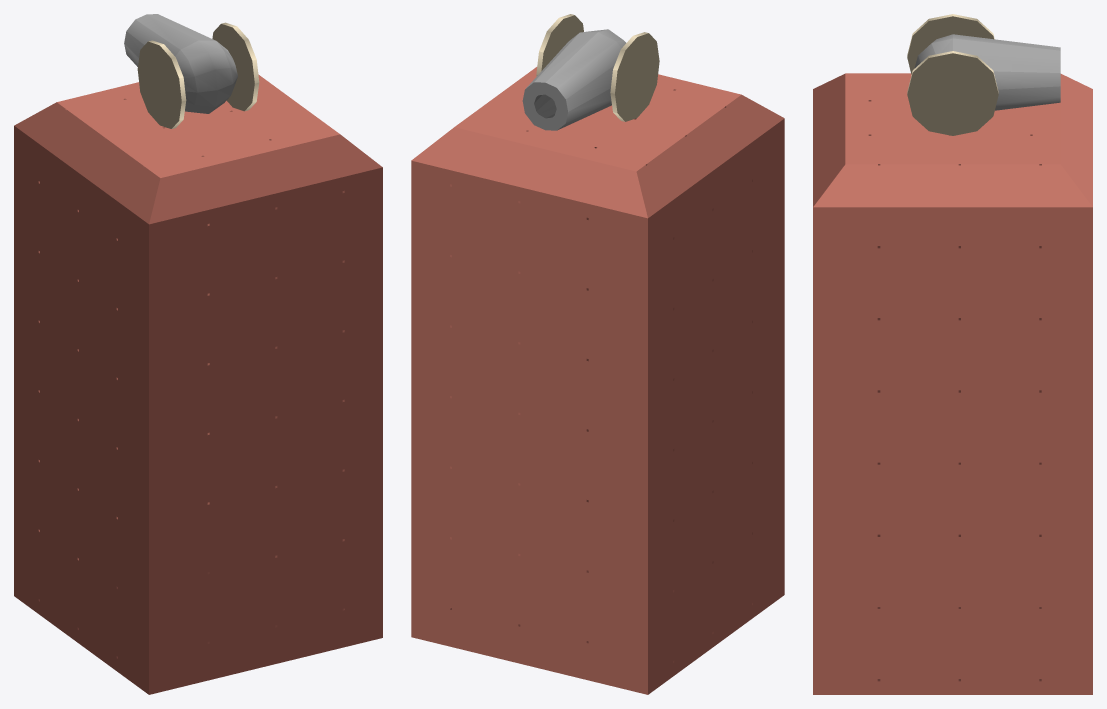
File: uvmd-0268.glb
3 renders of one model, left to right at view 1: azimuth 30°, elevation 25°; view 2: azimuth 150°, elevation 25°; view 3: azimuth 270°, elevation 25°, orthographic. The views are drawn at different scales.
Parts seen in each view (by area): view 1: uvmd-0268; view 2: uvmd-0268; view 3: uvmd-0268.
Boxes of the visible parts, bbox=[...] form: uvmd-0268: bbox=[14, 14, 382, 694]; uvmd-0268: bbox=[411, 14, 784, 694]; uvmd-0268: bbox=[813, 14, 1092, 694].
Bounding box in the file's own units: 104 × 247 × 104.
2 materials, 2 textured.
